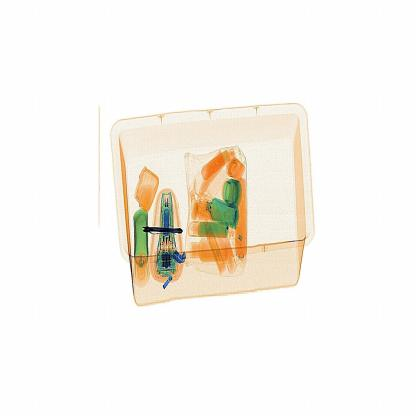knife: (143, 224, 186, 238)
